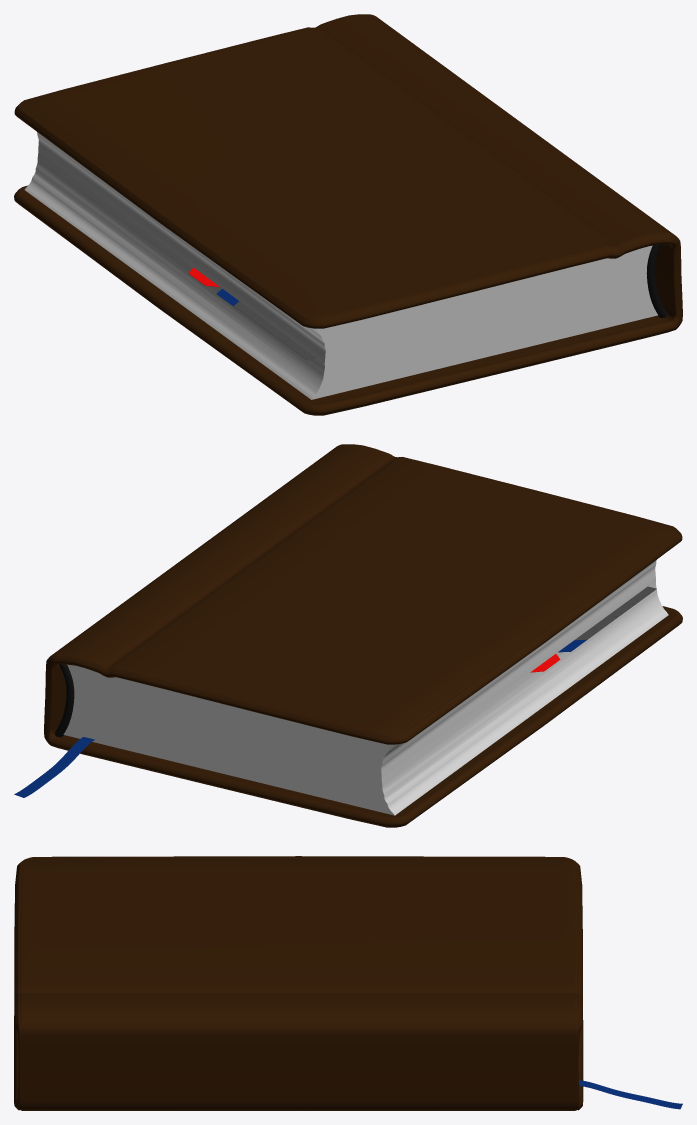
File: Diary.FBX
3 views of the same model, one above another, from view 1: azimuth 30°, elevation 25°; view 2: azimuth 150°, elevation 25°; view 3: azimuth 270°, elevation 25° (orthographic). The views are drawn at different scales.
Visible parts, largest first — view 1: arch20_067_00, arch20_067_01, arch20_067_03; view 2: arch20_067_00, arch20_067_01, arch20_067_02, arch20_067_03; view 3: arch20_067_00, arch20_067_02.
Boxes of the visible parts, x1,y1,x2,y2 form: arch20_067_00: (14,14,682,415); arch20_067_01: (24,132,657,399); arch20_067_03: (646,244,667,317); arch20_067_00: (44,444,682,827); arch20_067_01: (63,560,668,815); arch20_067_02: (14,737,94,797); arch20_067_03: (55,664,74,737); arch20_067_00: (14,856,583,1110); arch20_067_02: (579,1080,682,1109).
Bounding box in the file's own units: 202 × 55.15 × 335.
